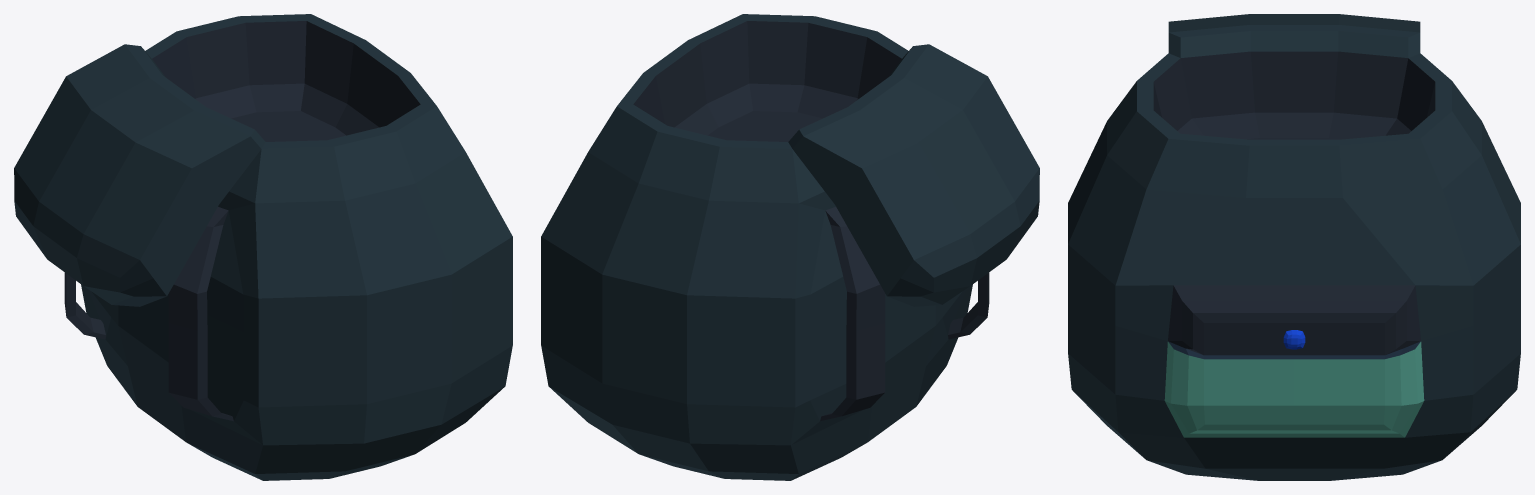
The model's file is Bag.Empty.fbx.
3 views of the same model, side by side, from view 1: azimuth 30°, elevation 25°; view 2: azimuth 150°, elevation 25°; view 3: azimuth 270°, elevation 25° (orthographic).
Parts seen in each view (by area): view 1: Bag.Empty; view 2: Bag.Empty; view 3: Bag.Empty.
Part boxes in pixels (bbox=[...]): Bag.Empty: bbox=[14, 14, 512, 480]; Bag.Empty: bbox=[541, 14, 1039, 480]; Bag.Empty: bbox=[1068, 14, 1520, 480].
Bounding box in the file's own units: 70.39 × 59.75 × 68.84.
